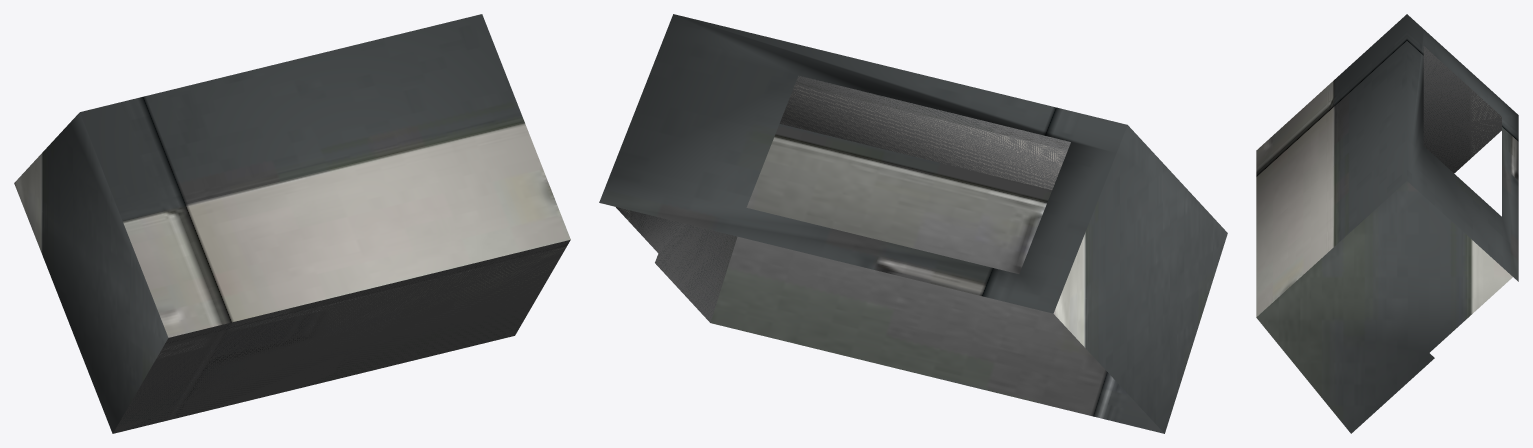
Rendered from original-25.obj.
The picture shows the model from 3 angles, left to right: view 1: azimuth 30°, elevation 25°; view 2: azimuth 150°, elevation 25°; view 3: azimuth 270°, elevation 25°; orthographic projection. The views are drawn at different scales.
Visible parts, largest first — view 1: 3dw.547ad62bd93988fff0117851f0671fde/Model/mesh1/mesh1-geometry/; view 2: 3dw.547ad62bd93988fff0117851f0671fde/Model/mesh1/mesh1-geometry/; view 3: 3dw.547ad62bd93988fff0117851f0671fde/Model/mesh1/mesh1-geometry/.
Boxes of the visible parts, bbox=[...] form: 3dw.547ad62bd93988fff0117851f0671fde/Model/mesh1/mesh1-geometry/: bbox=[14, 14, 570, 433]; 3dw.547ad62bd93988fff0117851f0671fde/Model/mesh1/mesh1-geometry/: bbox=[599, 14, 1227, 433]; 3dw.547ad62bd93988fff0117851f0671fde/Model/mesh1/mesh1-geometry/: bbox=[1256, 14, 1518, 433].
Bounding box in the file's own units: 0.1133 × 0.0801 × 0.0753.
